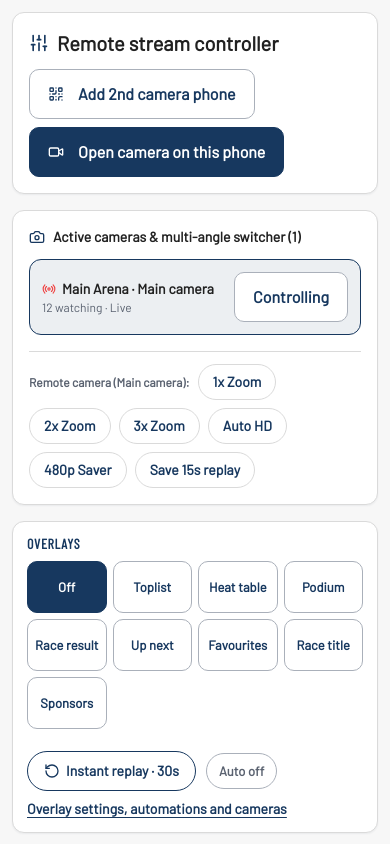
does not claim or display an overlay saved after failed
Click the radio button labelled "Toplist".
click(152, 587)  # box [112,561,192,613]
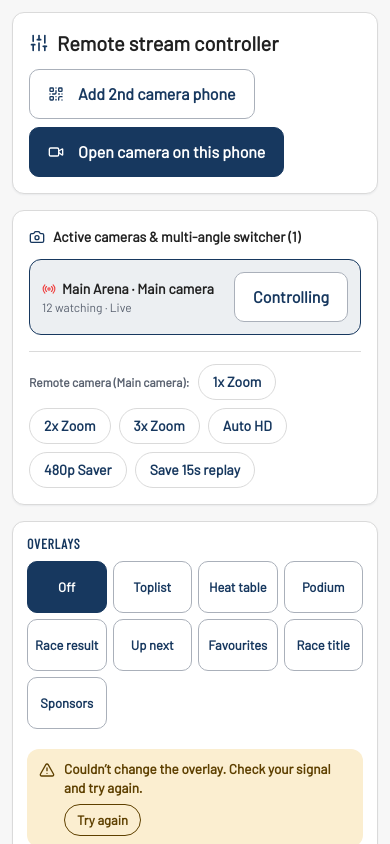
Expected: the message shows "Couldn’t change the overlay. Check your signal and try again.", [64,760,330,796]
Expected: the button "Try again" is shown, [64,804,141,836]
